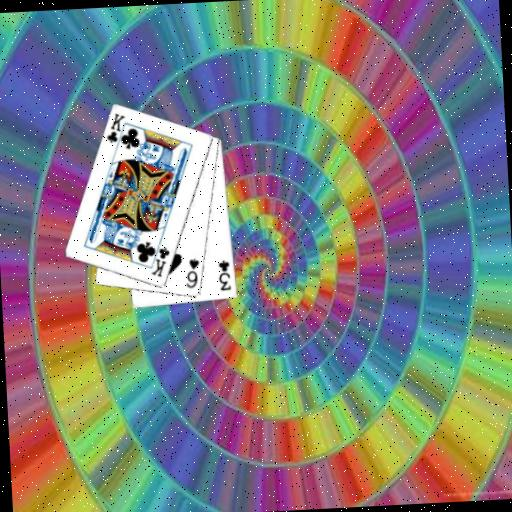3C: (215, 257, 233, 292)
6S: (183, 255, 203, 291)
KC: (102, 110, 129, 151), (146, 239, 173, 279)
